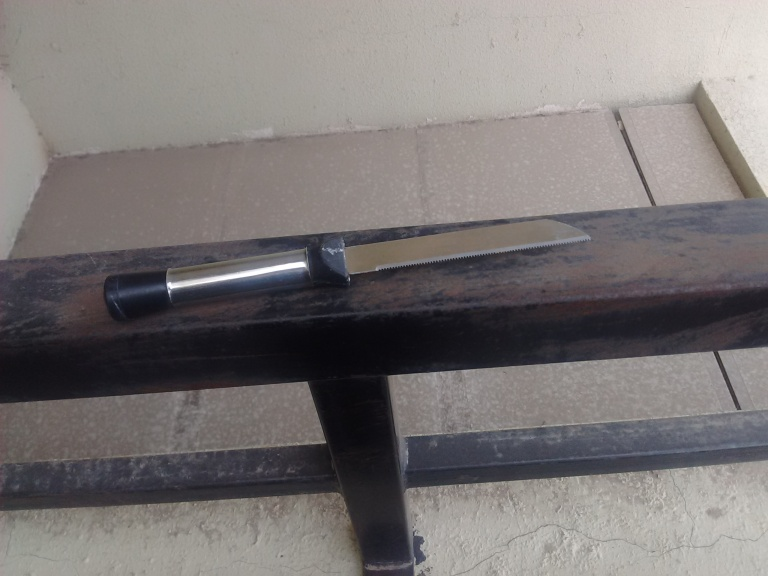knife: (101, 216, 593, 323)
